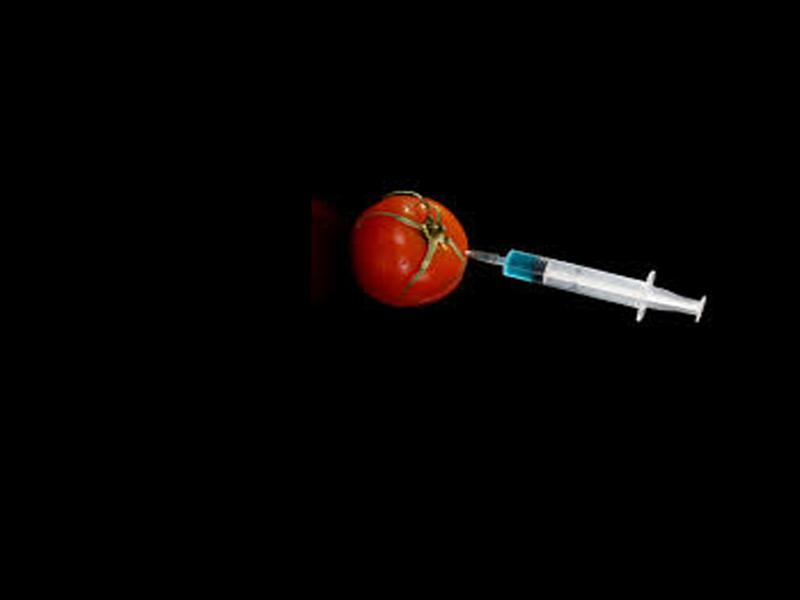Tomato: (354, 191, 469, 307)
